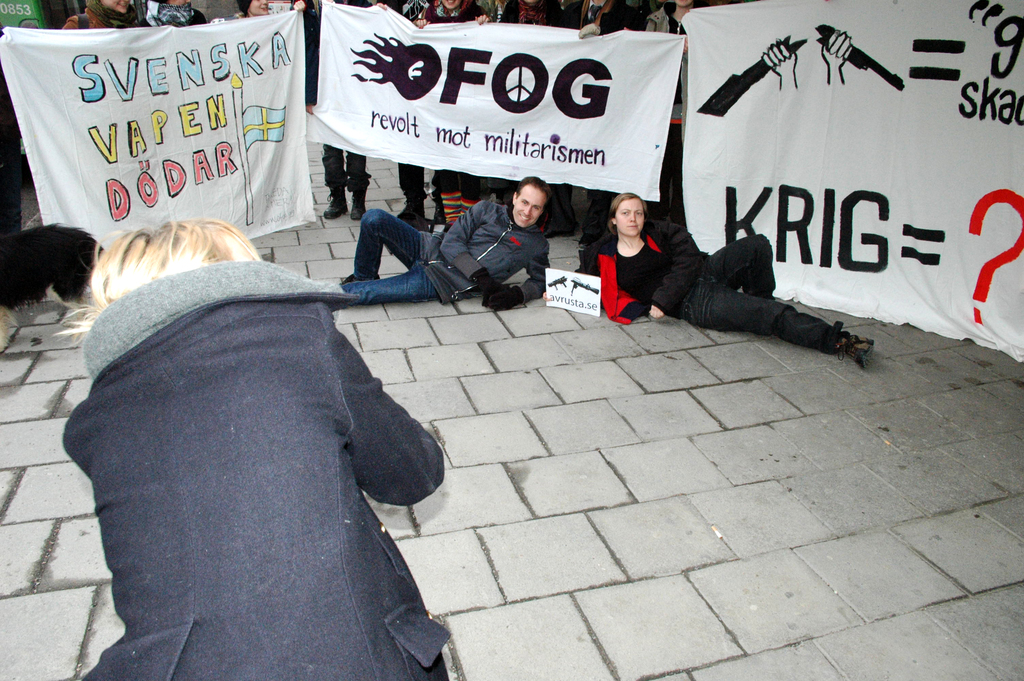Footwear: (837, 334, 881, 363)
